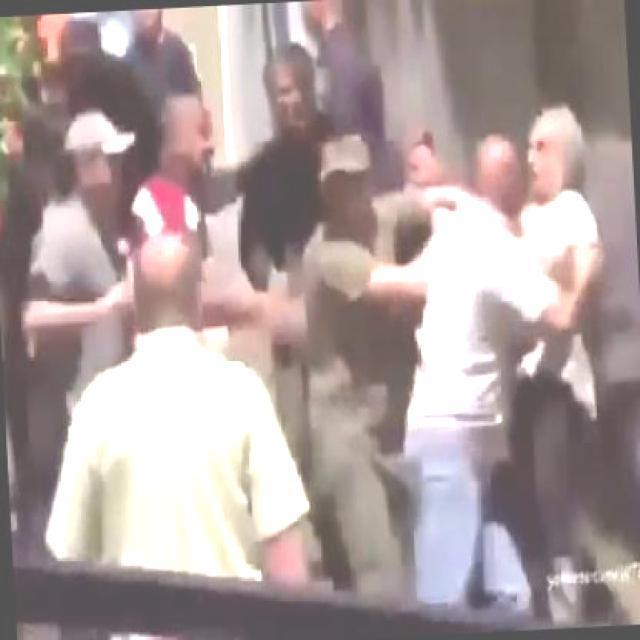fight: (412, 98, 606, 362)
